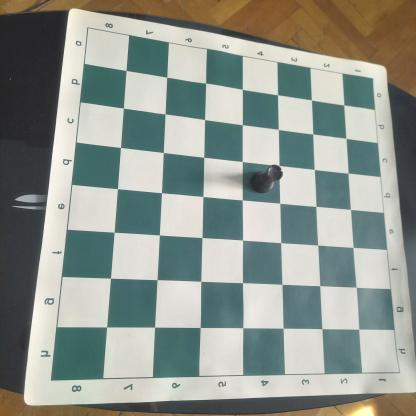black-rook: (247, 163, 284, 194)
